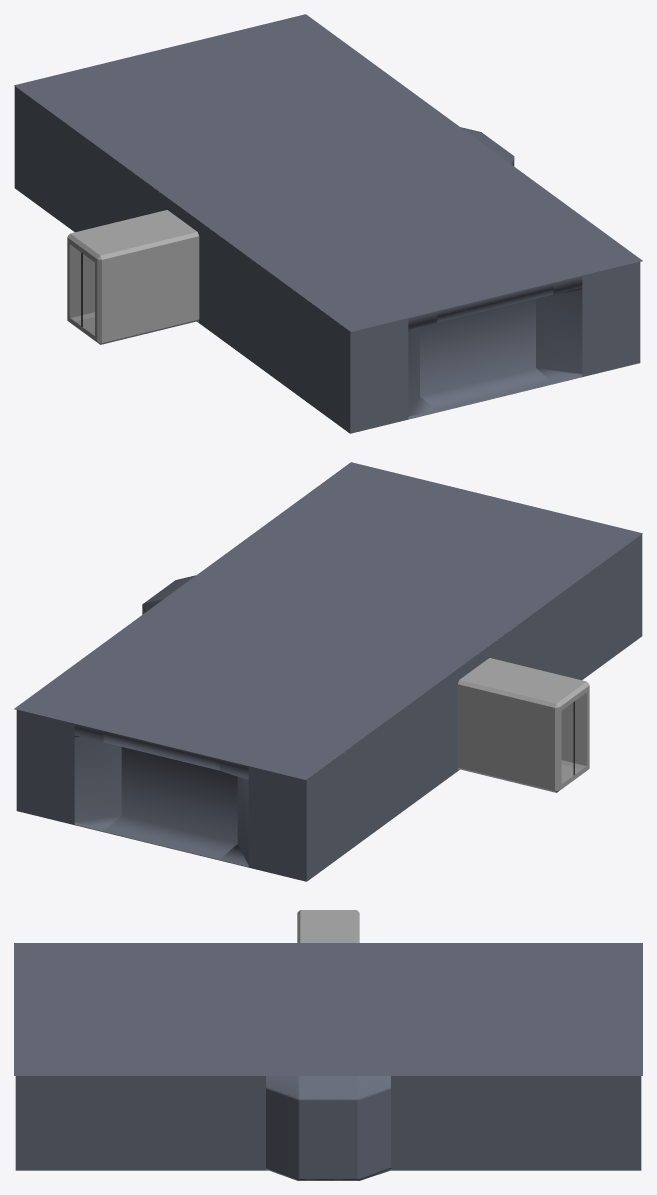
The model's file is Space Walk - Docking Bay Final (rough).fbx.
The picture shows the model from 3 angles, top to bottom: view 1: azimuth 30°, elevation 25°; view 2: azimuth 150°, elevation 25°; view 3: azimuth 270°, elevation 25°; orthographic projection. The views are drawn at different scales.
Parts seen in each view (by area): view 1: pCube1, pasted__pPlane1, pasted__pCube1; view 2: pCube1, pasted__pPlane1, pasted__pCube1; view 3: pCube1, pasted__pPlane1, pasted__pCube1.
Part boxes in pixels (left/top/right/bottom): pCube1: left=14, top=14, right=642, bottom=332; pasted__pPlane1: left=14, top=86, right=640, bottom=433; pasted__pCube1: left=67, top=210, right=199, bottom=344; pCube1: left=14, top=462, right=642, bottom=780; pasted__pPlane1: left=16, top=534, right=642, bottom=881; pasted__pCube1: left=457, top=658, right=589, bottom=792; pCube1: left=14, top=943, right=642, bottom=1075; pasted__pPlane1: left=15, top=1076, right=641, bottom=1180; pasted__pCube1: left=297, top=910, right=359, bottom=942.
Bounding box in the file's own units: 17.17 × 4.04 × 24.12.
